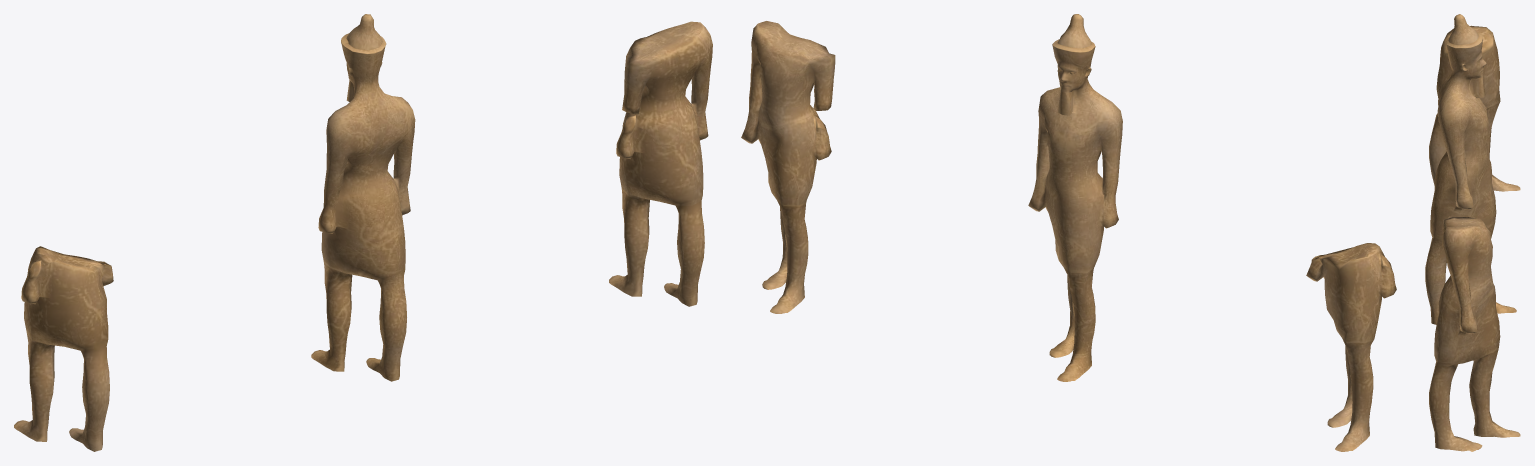
The model's file is statue.fbx.
3 views of the same model, side by side, from view 1: azimuth 30°, elevation 25°; view 2: azimuth 150°, elevation 25°; view 3: azimuth 270°, elevation 25° (orthographic). The views are drawn at different scales.
Parts seen in each view (by area): view 1: Statue_Stand_Low, Statue_Torso_Low, statue_Legs_Low; view 2: Statue_Stand_Low, Statue_Torso_Low, statue_Legs_Low; view 3: Statue_Torso_Low, Statue_Stand_Low, statue_Legs_Low.
Part boxes in pixels (x1=…): Statue_Stand_Low: x1=311, y1=14, x2=415, y2=381; Statue_Torso_Low: x1=609, y1=21, x2=712, y2=306; statue_Legs_Low: x1=14, y1=246, x2=113, y2=451; Statue_Stand_Low: x1=1028, y1=14, x2=1122, y2=381; Statue_Torso_Low: x1=741, y1=21, x2=835, y2=313; statue_Legs_Low: x1=1306, y1=243, x2=1396, y2=451; Statue_Torso_Low: x1=1429, y1=216, x2=1520, y2=451; Statue_Stand_Low: x1=1425, y1=14, x2=1516, y2=324; statue_Legs_Low: x1=1429, y1=25, x2=1520, y2=191.
Size of the model in its own units: 1791 by 896 by 256.
